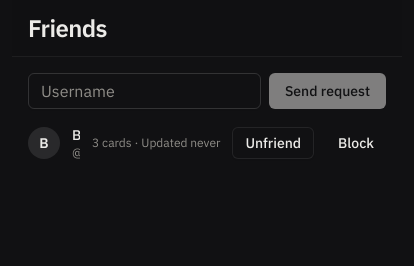
Test: friend collection › opens a friend's binder from FriendsPage and goes back
Click the button "B Bob @bob 3 cards · Updated never".
click(124, 143)  # box [28,125,220,161]
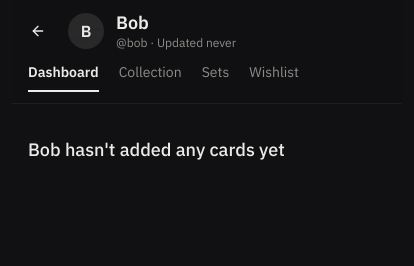
Now the heading "Bob" is shown, box [116,11,149,34]
Click the radio button labelled "Collection".
click(150, 76)  # box [119,62,182,92]
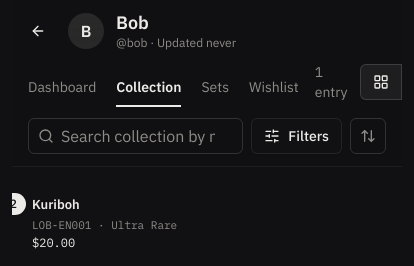
Now the text "Kuriboh" is shown, box [32,196,80,212]
Click the button named "All friends".
click(38, 31)  # box [20,15,56,47]
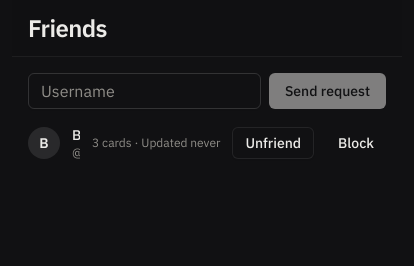
Now the button "B Bob @bob 3 cards · Updated never" is shown, box [28,125,220,161]
